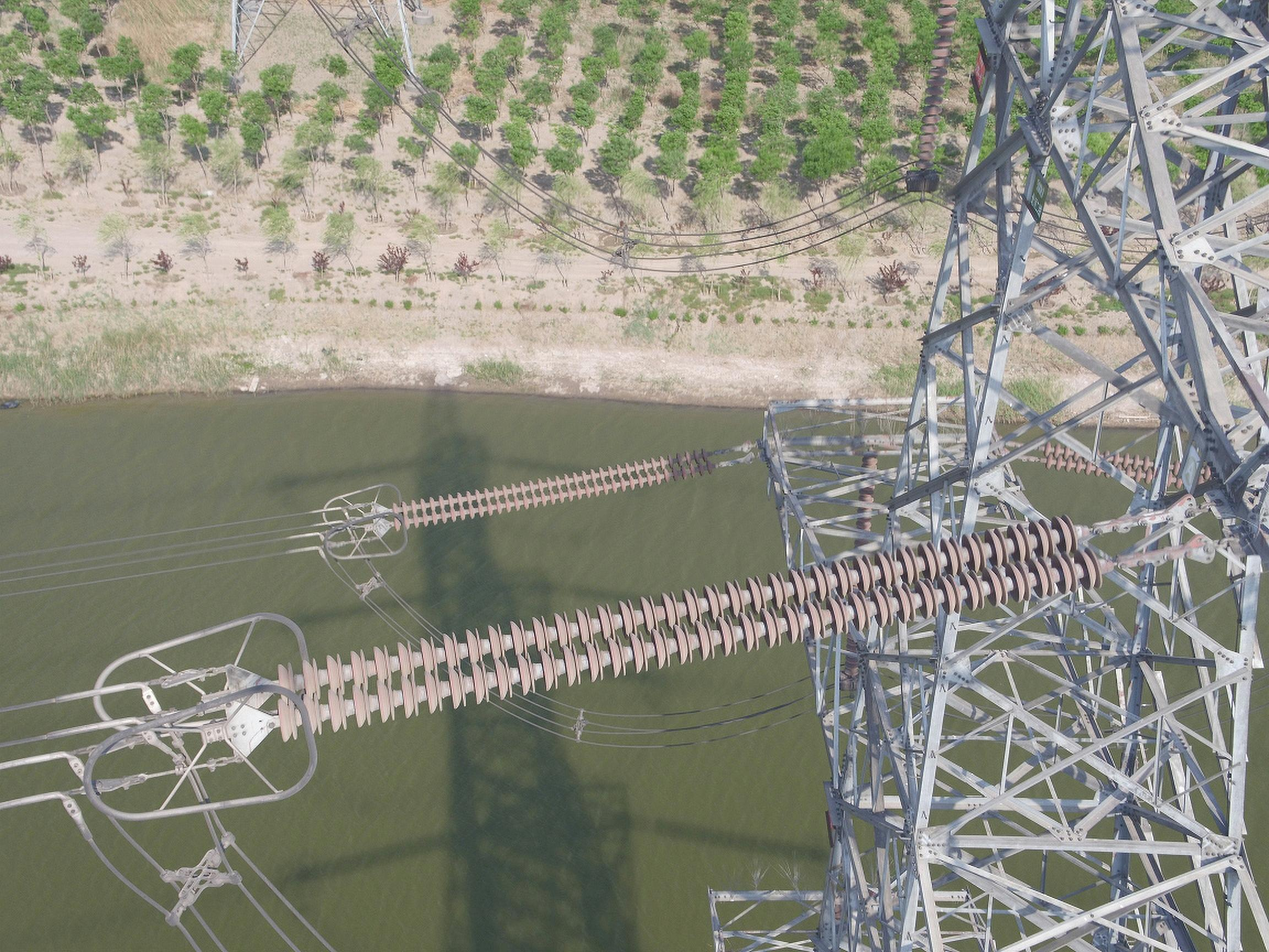insulator: (267, 510, 1107, 747), (391, 446, 715, 534), (1041, 439, 1214, 492), (842, 452, 880, 678), (913, 1, 961, 172)
